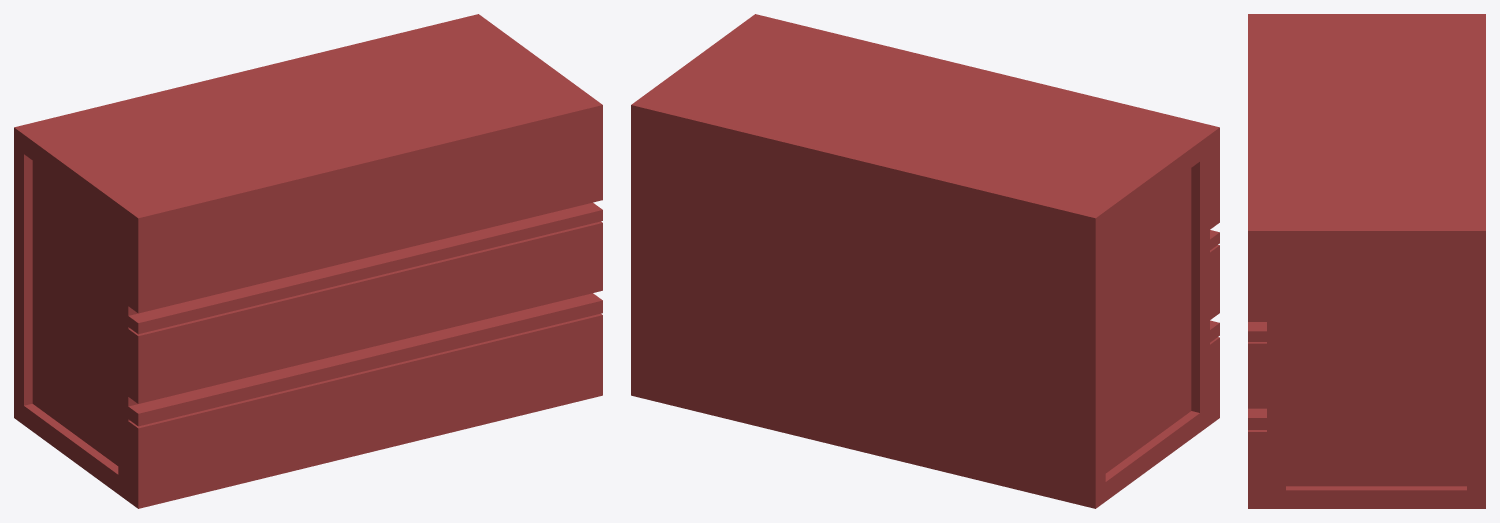
The model's file is Drawer_2.FBX.
3 views of the same model, side by side, from view 1: azimuth 30°, elevation 25°; view 2: azimuth 150°, elevation 25°; view 3: azimuth 270°, elevation 25° (orthographic). The views are drawn at different scales.
Parts seen in each view (by area): view 1: Drawer_2; view 2: Drawer_2; view 3: Drawer_2.
Boxes of the visible parts, <box> form: Drawer_2: <box>14,14,602,508</box>; Drawer_2: <box>631,14,1219,508</box>; Drawer_2: <box>1248,14,1485,508</box>.
Size of the model in its own units: 1.91 by 1.14 by 0.8869.
